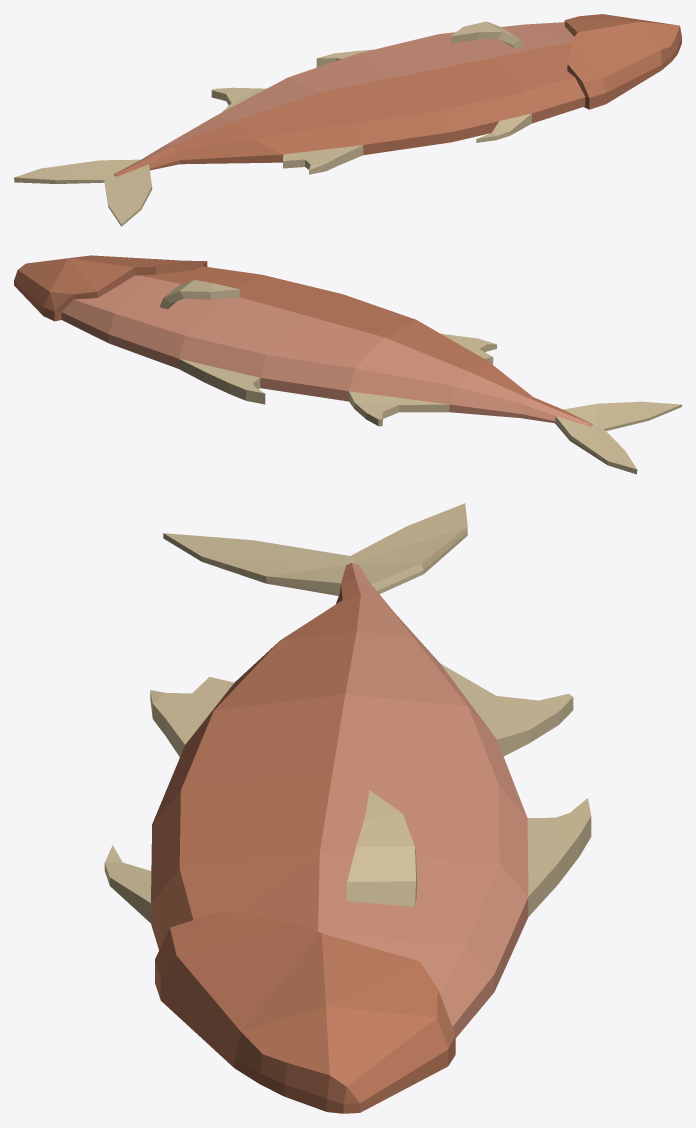
The model's file is Fish.fbx.
The picture shows the model from 3 angles, top to bottom: view 1: azimuth 30°, elevation 25°; view 2: azimuth 150°, elevation 25°; view 3: azimuth 270°, elevation 25°; orthographic projection. The views are drawn at different scales.
Parts seen in each view (by area): view 1: Fish_Cube.085; view 2: Fish_Cube.085; view 3: Fish_Cube.085.
Boxes of the visible parts, <box> form: Fish_Cube.085: <box>14,14,681,226</box>; Fish_Cube.085: <box>14,255,681,474</box>; Fish_Cube.085: <box>104,503,591,1113</box>.
Bounding box in the file's own units: 320 × 30.3 × 106.
